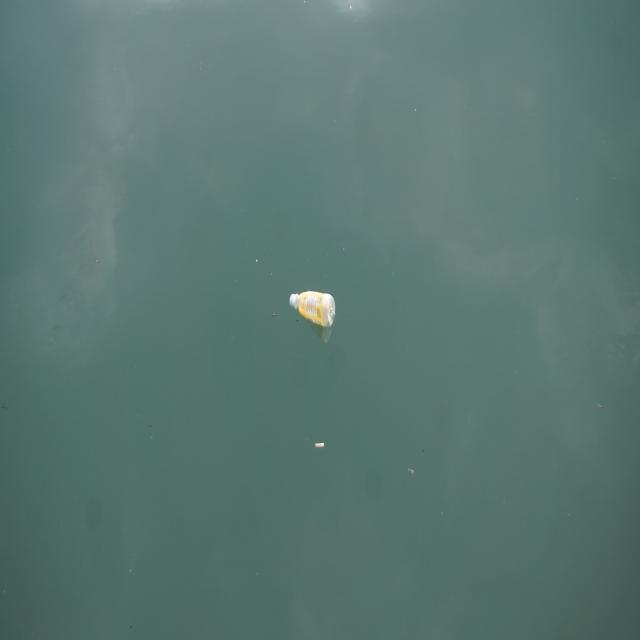Botol Plastik: (289, 283, 340, 339)
